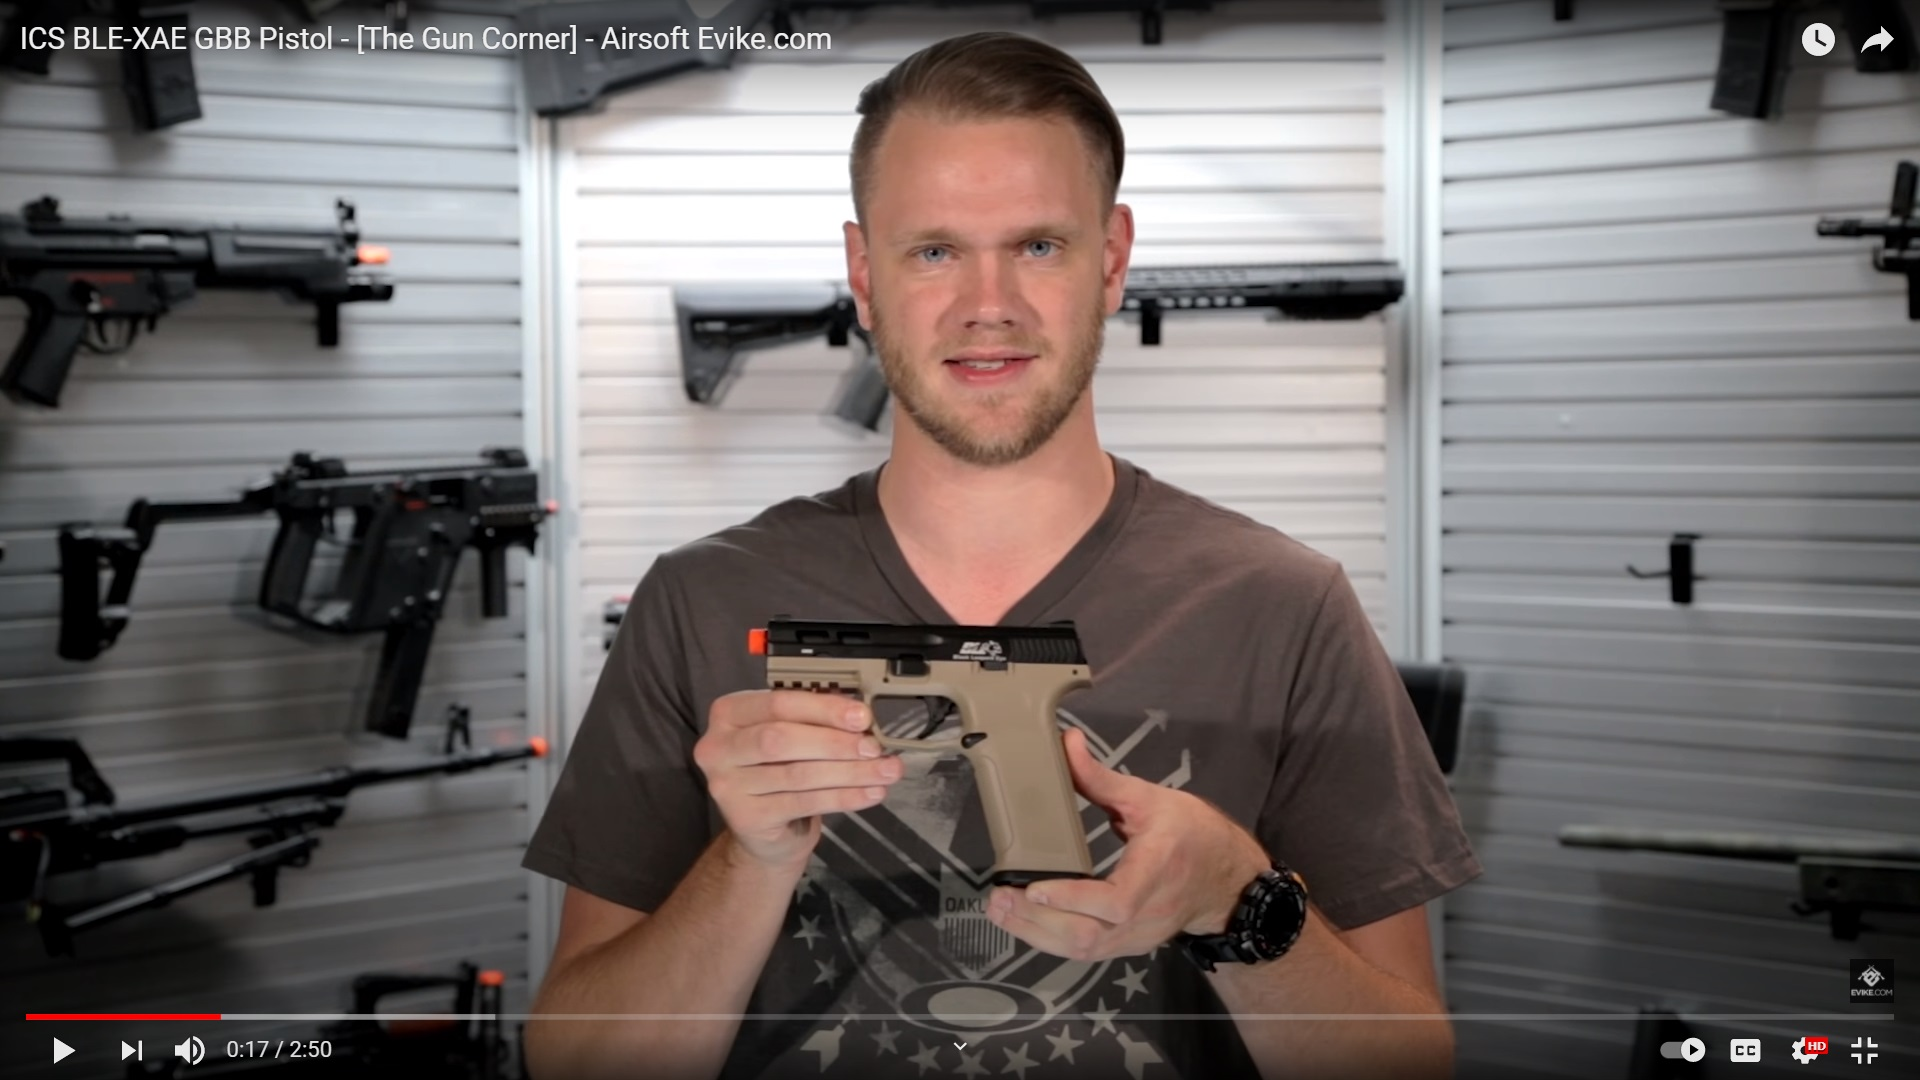asg_ics_ble_xae: (737, 609, 1120, 890)
